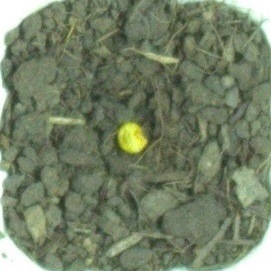chilli seed: (114, 121, 150, 154)
